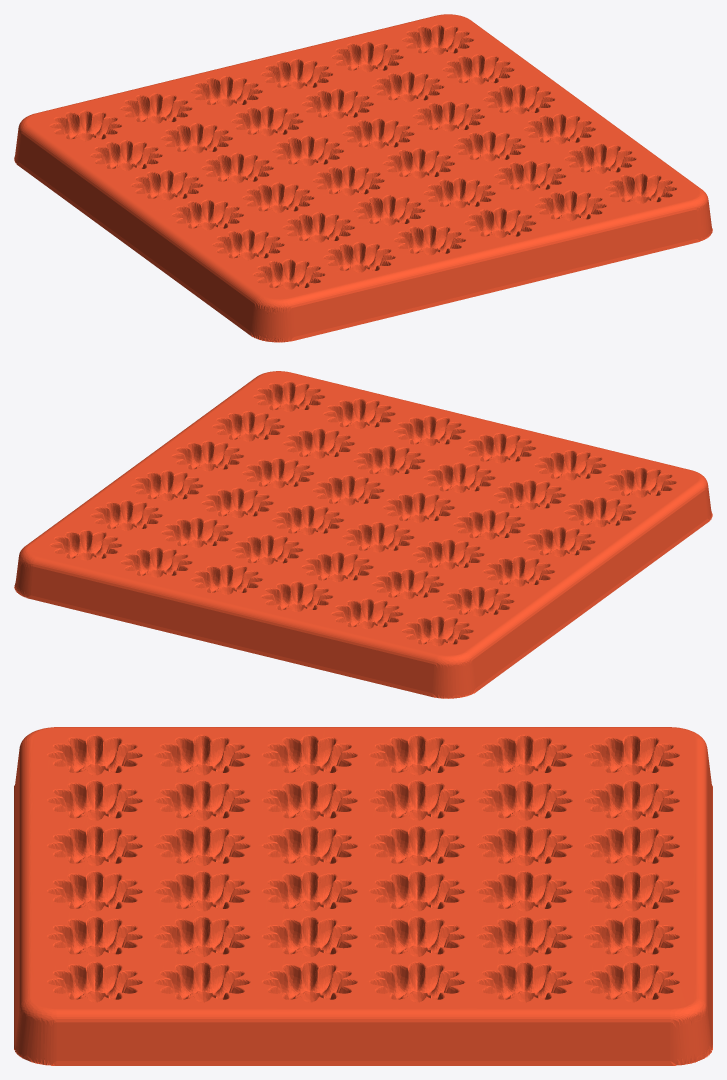
File: mold.glb
3 views of the same model, one above another, from view 1: azimuth 30°, elevation 25°; view 2: azimuth 150°, elevation 25°; view 3: azimuth 270°, elevation 25° (orthographic). The views are drawn at different scales.
Visible parts, largest first — view 1: geometry_0; view 2: geometry_0; view 3: geometry_0.
Part boxes in pixels (x1,y1,x2,y2): geometry_0: [14, 14, 712, 342]; geometry_0: [14, 371, 712, 698]; geometry_0: [14, 727, 712, 1065].
Bounding box in the file's own units: 0.1447 × 0.0114 × 0.1447.
